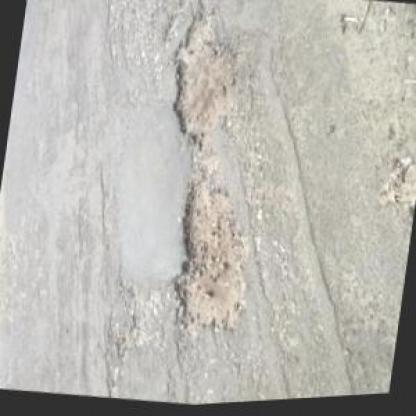pothole: (165, 164, 266, 345), (160, 4, 248, 157)
